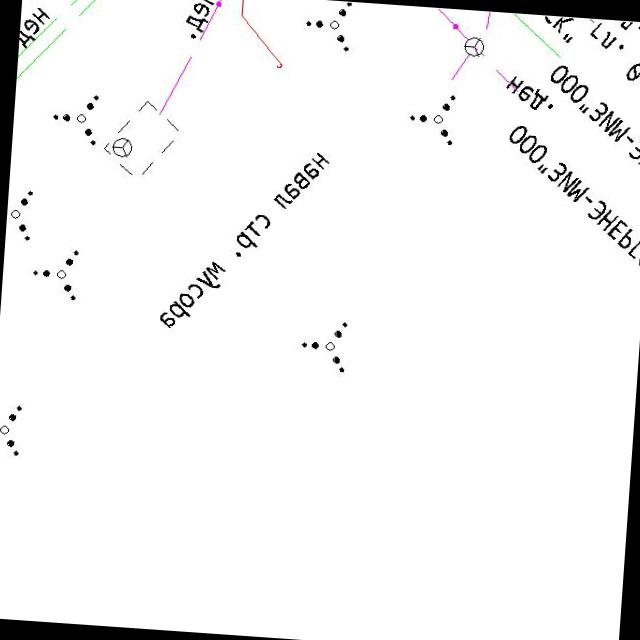bushes: (404, 89, 462, 149), (299, 0, 357, 55), (297, 316, 349, 375), (28, 245, 80, 302), (48, 90, 100, 146)
well: (460, 33, 488, 59), (108, 134, 134, 160)
